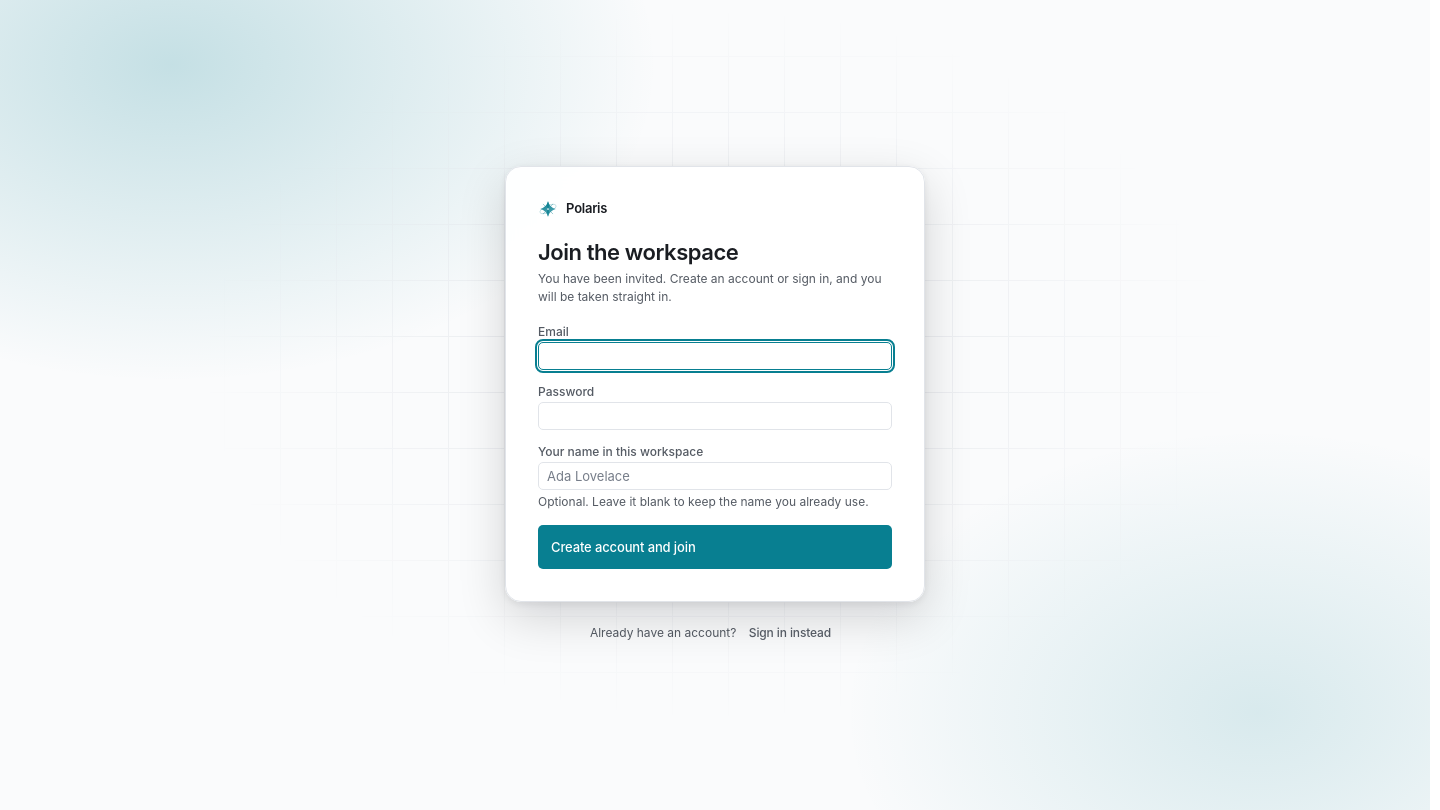
Test: AcceptInvite › shows the server’s refusal and stays put
Step 1. Type "ada@example.com" into the field labelled "Email" → (715, 356), box [547,343,883,369]
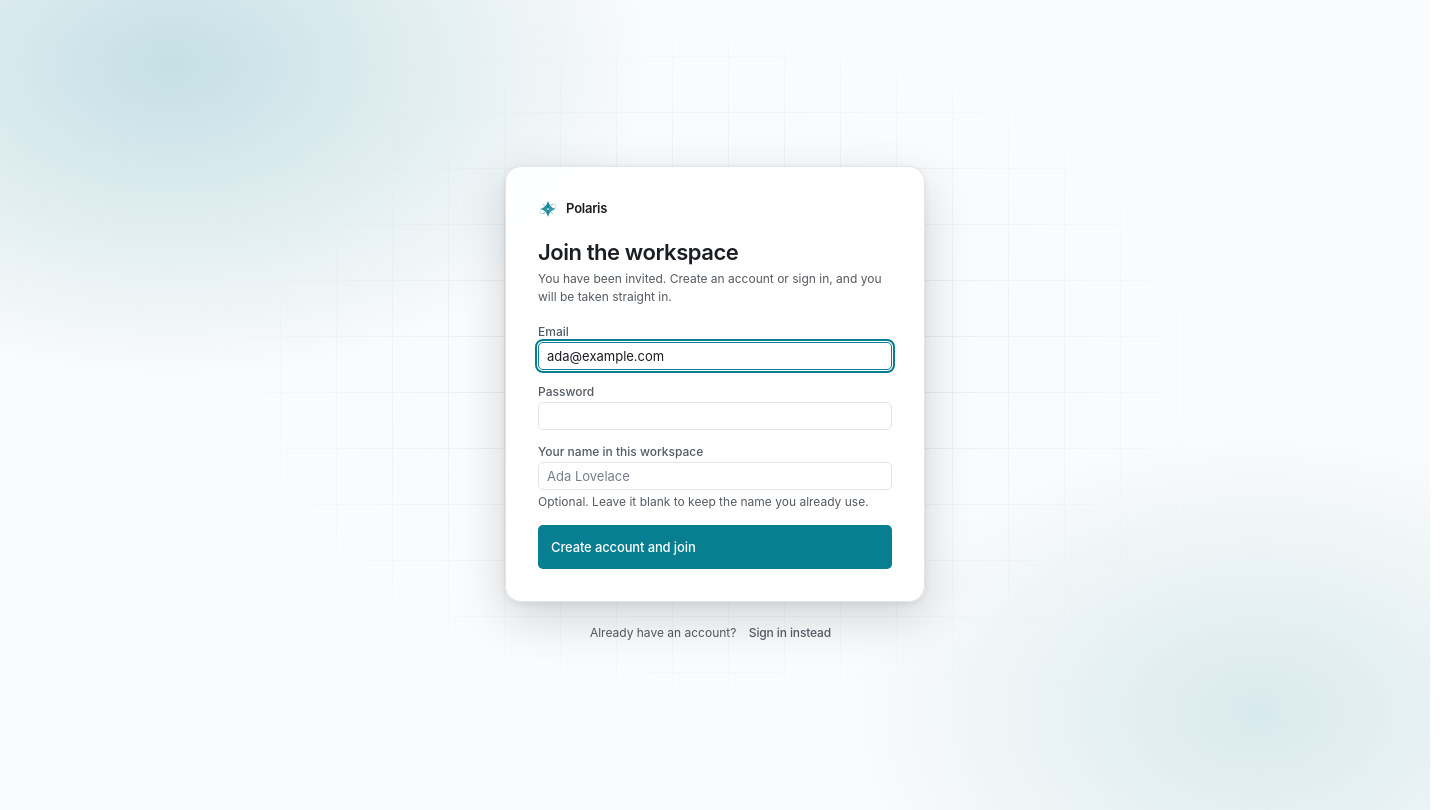
Step 2. Type "a-long-enough-password" into the password field labelled "Password" → (715, 416), box [547,403,883,429]
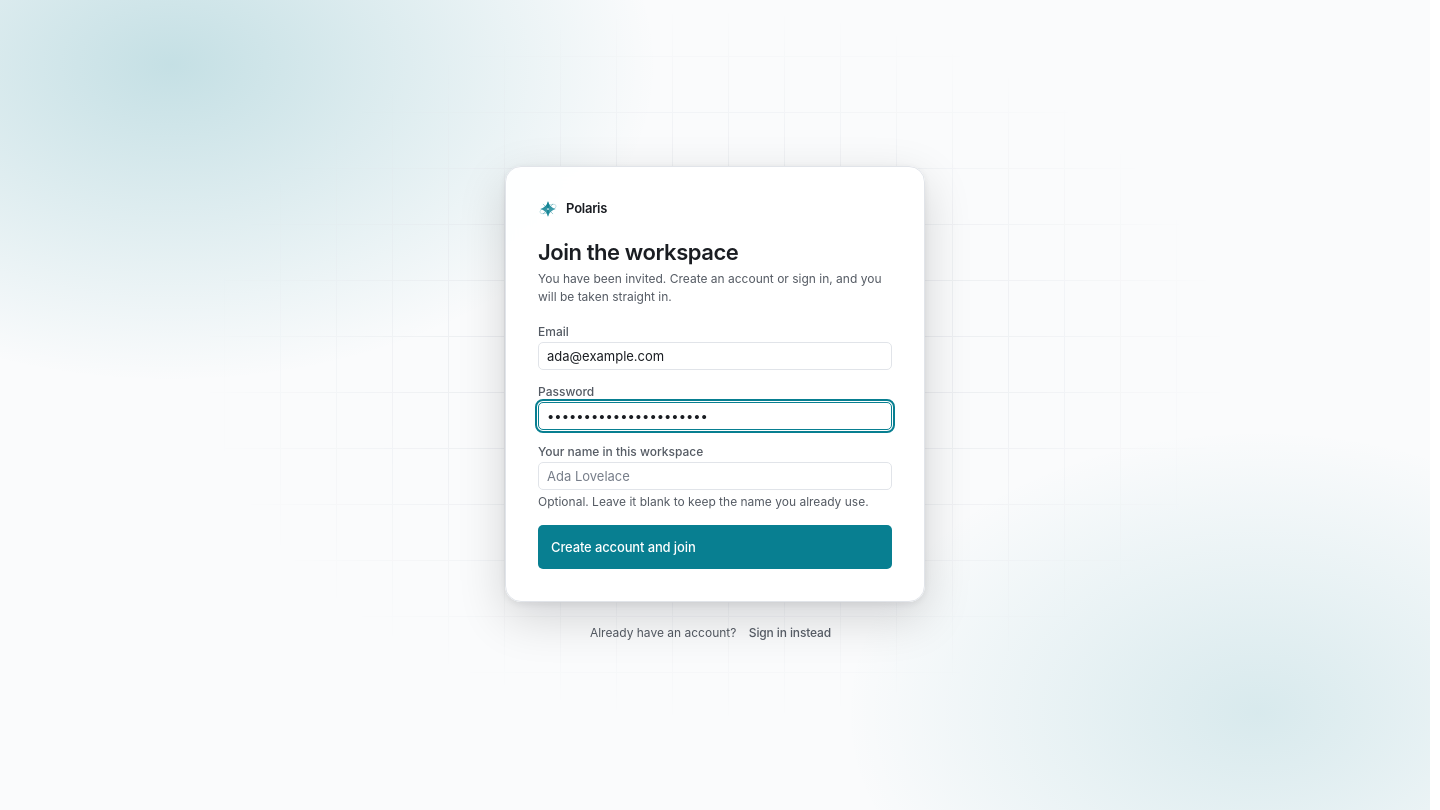
Step 3. Click the button "Create account and join" → (623, 547), box [538,525,892,569]
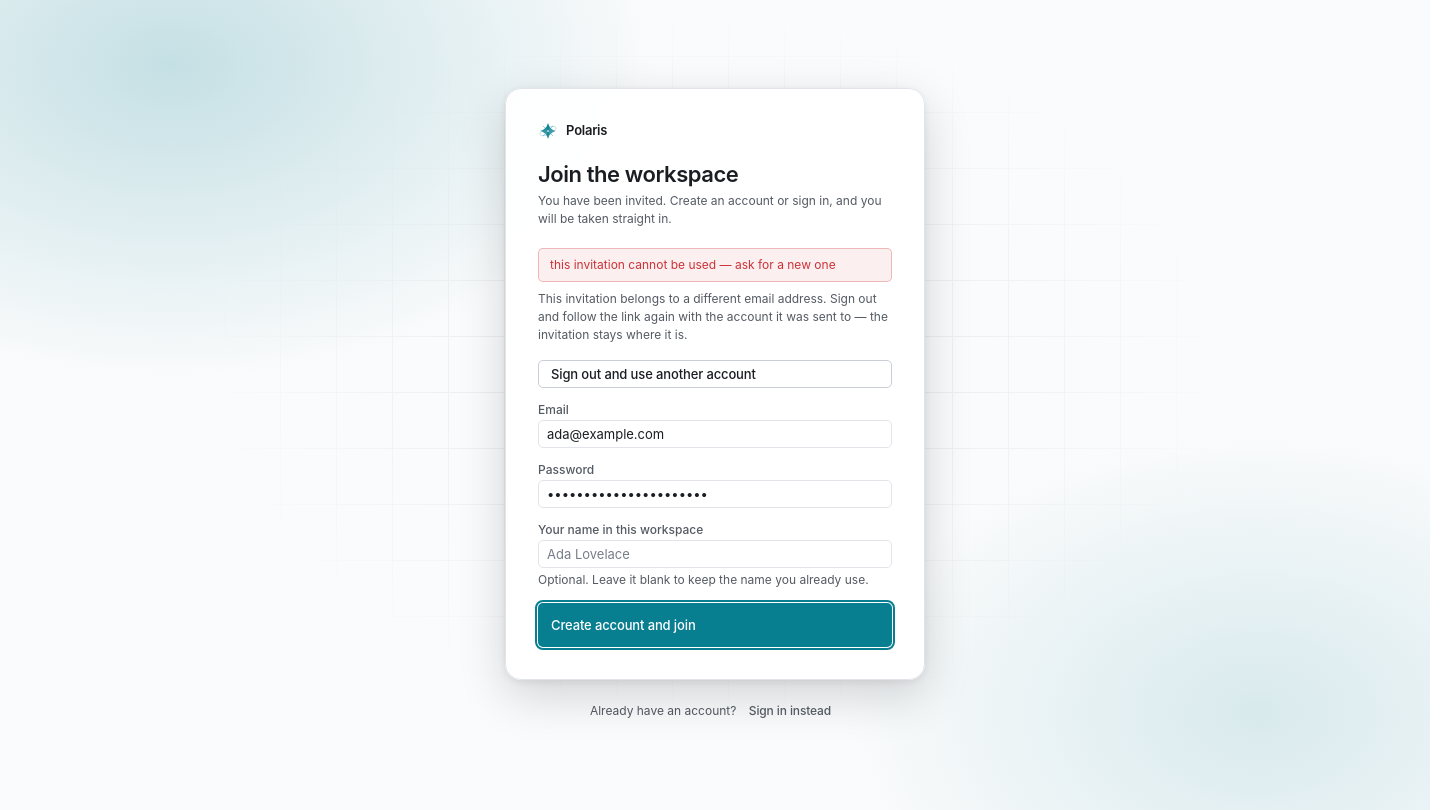
Expected: the message shows "invitation cannot be used", [550,257,836,272]
